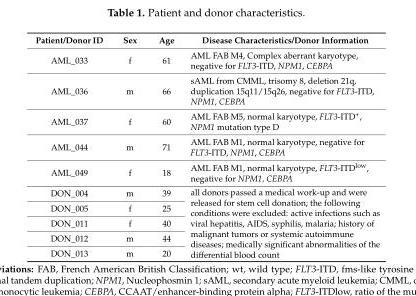table: (34, 34, 379, 259)
table column: (181, 34, 379, 259), (34, 34, 112, 259), (146, 34, 181, 259), (112, 34, 146, 259)
table column header: (34, 34, 379, 47)
table row: (34, 72, 379, 107), (34, 107, 379, 133), (34, 158, 379, 184), (34, 47, 379, 72), (34, 133, 379, 158), (34, 184, 379, 200), (34, 200, 379, 215), (34, 215, 379, 230), (34, 230, 379, 245), (34, 245, 379, 259), (34, 34, 379, 47)
table spanning cell: (181, 184, 379, 259)
